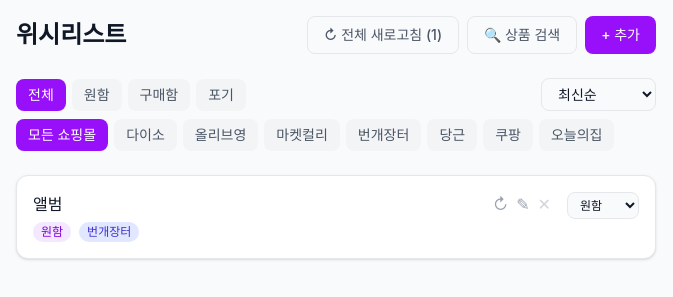
it: WishlistPage › 재조회에 실패하면 카드에 사유를 보여준다
This screenshot has width=673, height=297.
Click the button named "가격·품절 다시 확인". click: x=501, y=204
box: [489, 192, 512, 216]
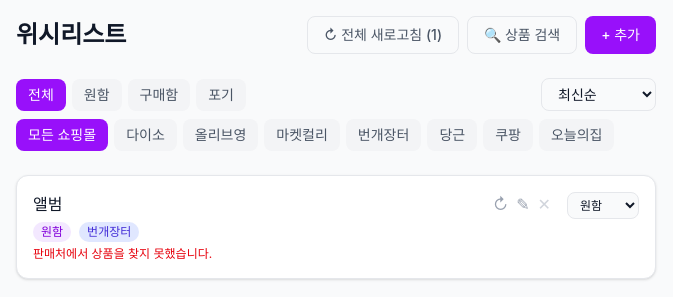
Result: the text "판매처에서 상품을 찾지 못했습니다." is shown at [33, 246, 212, 261]
